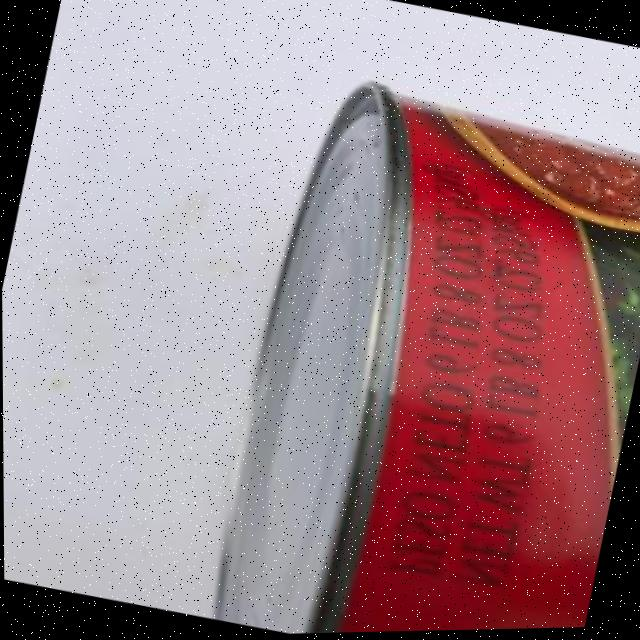metal: (177, 52, 640, 637)
